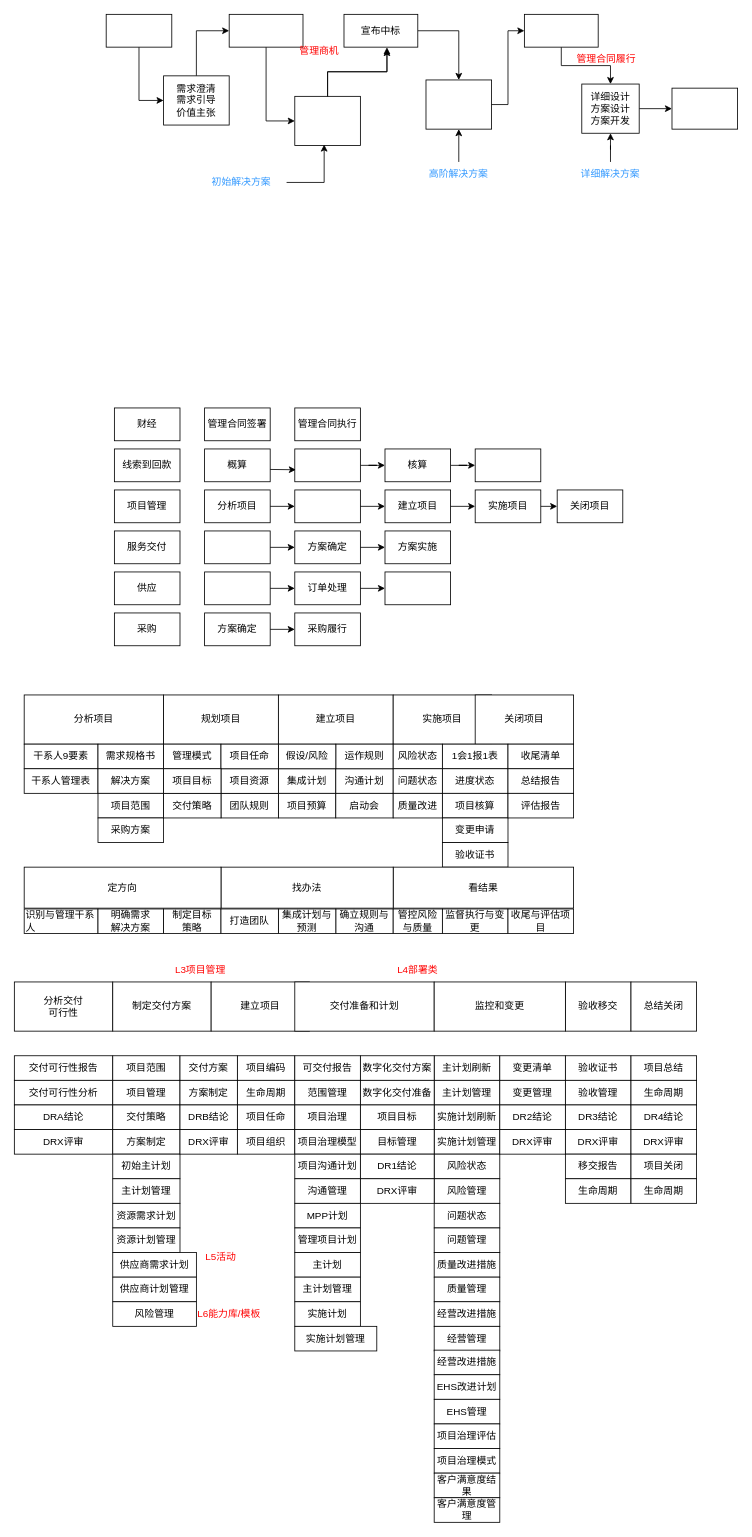
Image size: 752x1537. Some labels were removed from this diagram. Here are the shapes that lost their labels. From the top down, the box of each, then its label:
(105, 14, 172, 47): 初始客户需求
(228, 14, 303, 47): 发标 (招标书)
(524, 14, 598, 47): 合同签署
(294, 96, 360, 146): 标书澄清 产品建议书 服务建议书
(425, 79, 492, 129): 硬件方案 软件方案 服务方案
(671, 87, 738, 129): 解决方案执行
(294, 448, 360, 482): 预算
(474, 448, 541, 482): 决算
(294, 489, 360, 523): 规划
(204, 530, 270, 564): 方案设计
(204, 571, 270, 605): 要货预测
(384, 571, 451, 605): 仓储物流
